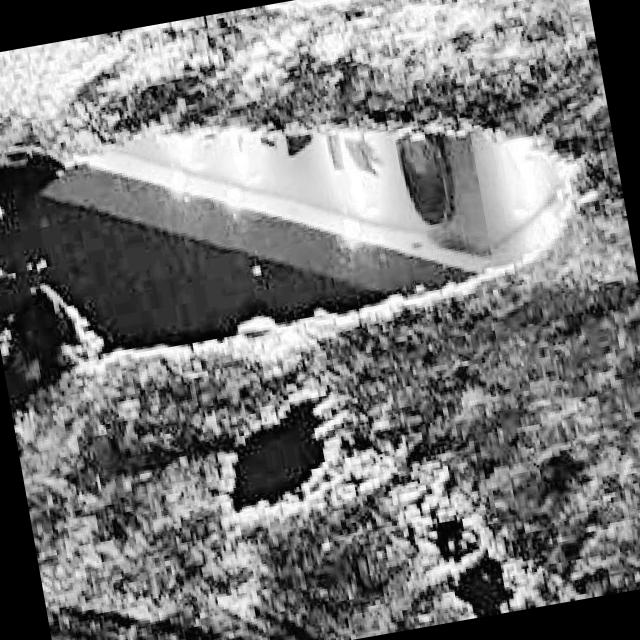Pothole: (0, 19, 629, 418)
